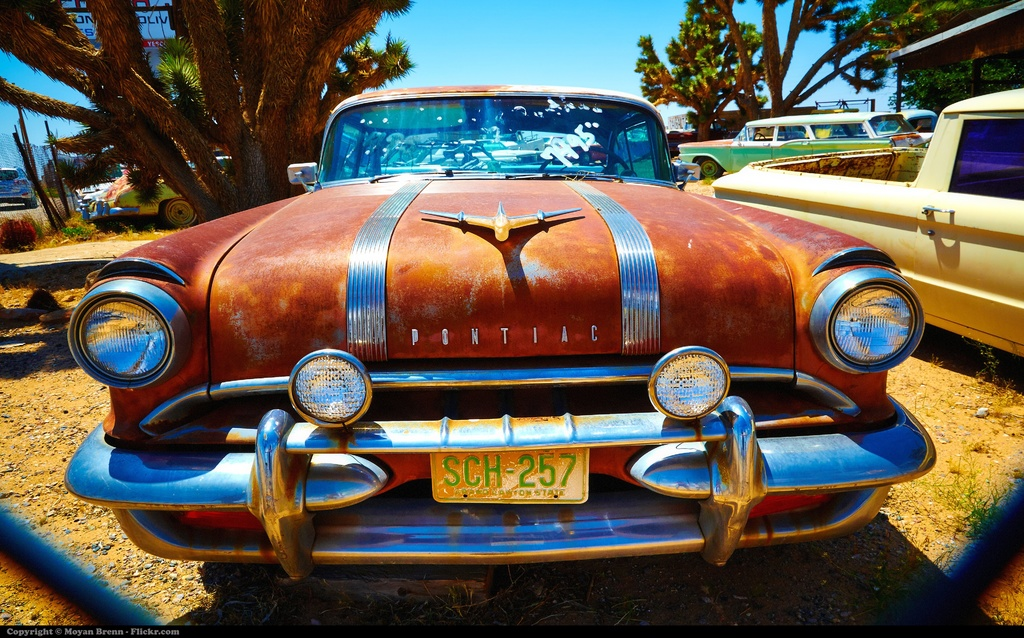Car: (81, 94, 968, 607), (676, 115, 919, 183), (80, 154, 242, 234), (432, 137, 545, 167), (873, 112, 937, 153), (371, 135, 430, 171), (0, 168, 41, 204), (86, 178, 113, 226), (569, 139, 609, 168)
